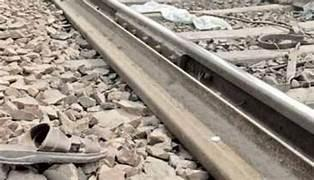mulch: (127, 1, 238, 38)
